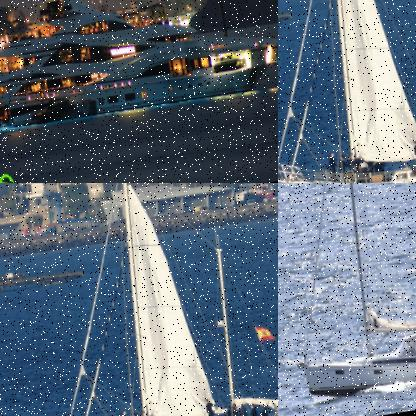Sails Boat: (16, 183, 277, 415), (278, 183, 415, 402), (278, 0, 415, 182)
Yacht: (0, 0, 277, 144)
